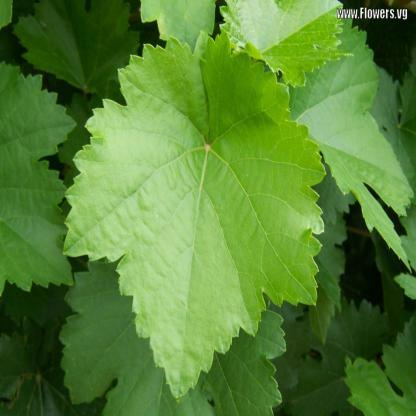grape leaf black rot: (60, 38, 332, 406), (2, 62, 74, 305), (219, 0, 358, 88)
